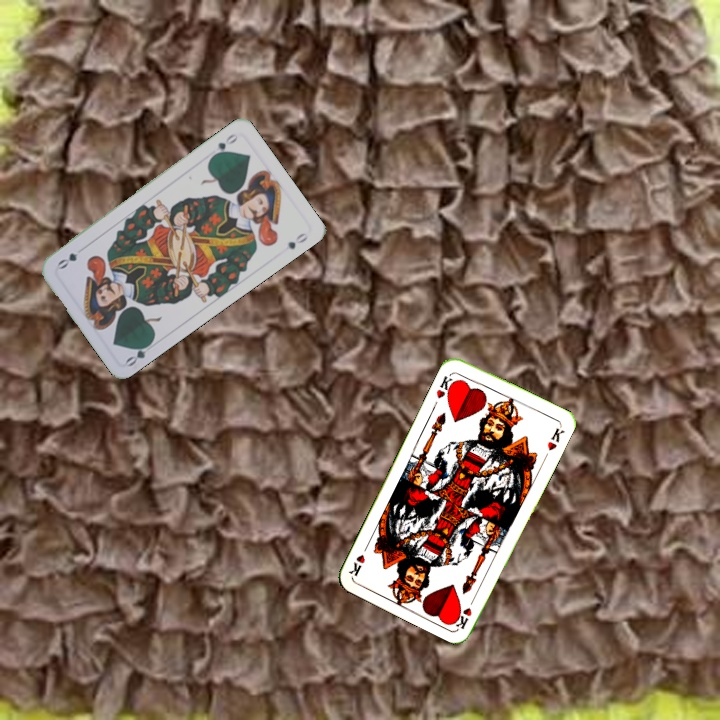GO: (122, 337, 157, 369), (207, 129, 240, 160)
HK: (452, 592, 479, 631), (432, 372, 459, 401)
